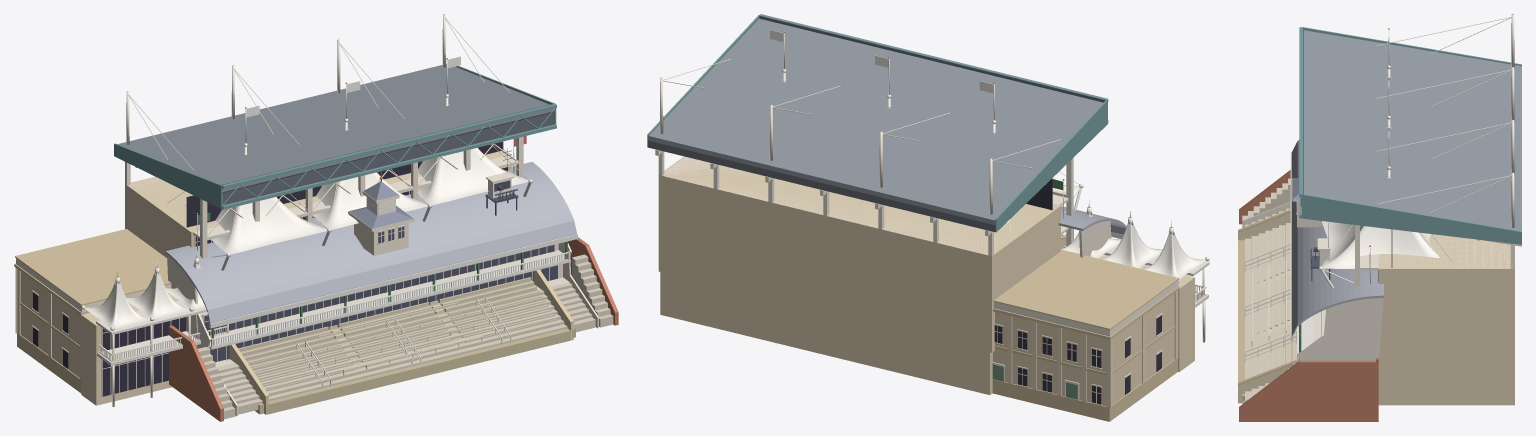
Rendered from gen-ring-r-big_stands.glb.
3 views of the same model, side by side, from view 1: azimuth 30°, elevation 25°; view 2: azimuth 150°, elevation 25°; view 3: azimuth 270°, elevation 25° (orthographic). The views are drawn at different scales.
Parts seen in each view (by area): view 1: gen_cupola_stand, park_tent_stand, york_stand_south, park_terrace; view 2: york_stand_south, park_tent_stand, gen_cupola_stand; view 3: york_stand_south, gen_cupola_stand, park_tent_stand, park_terrace.
Boxes of the visible parts, <box> form: gen_cupola_stand: <box>165,136,618,421</box>; park_tent_stand: <box>14,56,574,414</box>; york_stand_south: <box>114,14,575,414</box>; park_terrace: <box>318,302,482,378</box>; york_stand_south: <box>647,14,1108,394</box>; park_tent_stand: <box>770,30,1209,421</box>; gen_cupola_stand: <box>1052,179,1146,265</box>; york_stand_south: <box>1242,14,1521,405</box>; gen_cupola_stand: <box>1239,140,1383,421</box>; park_tent_stand: <box>1238,28,1452,403</box>; park_terrace: <box>1251,261,1286,349</box>.
Size of the model in its own units: 65.63 by 32.07 by 33.3.
